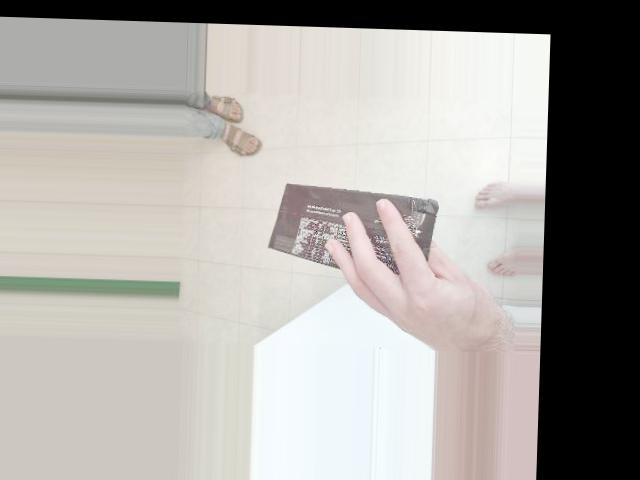chocolate: (264, 80, 379, 267)
